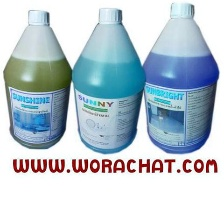cleaning_solution: (140, 0, 223, 156), (67, 5, 149, 156), (2, 7, 74, 152)
